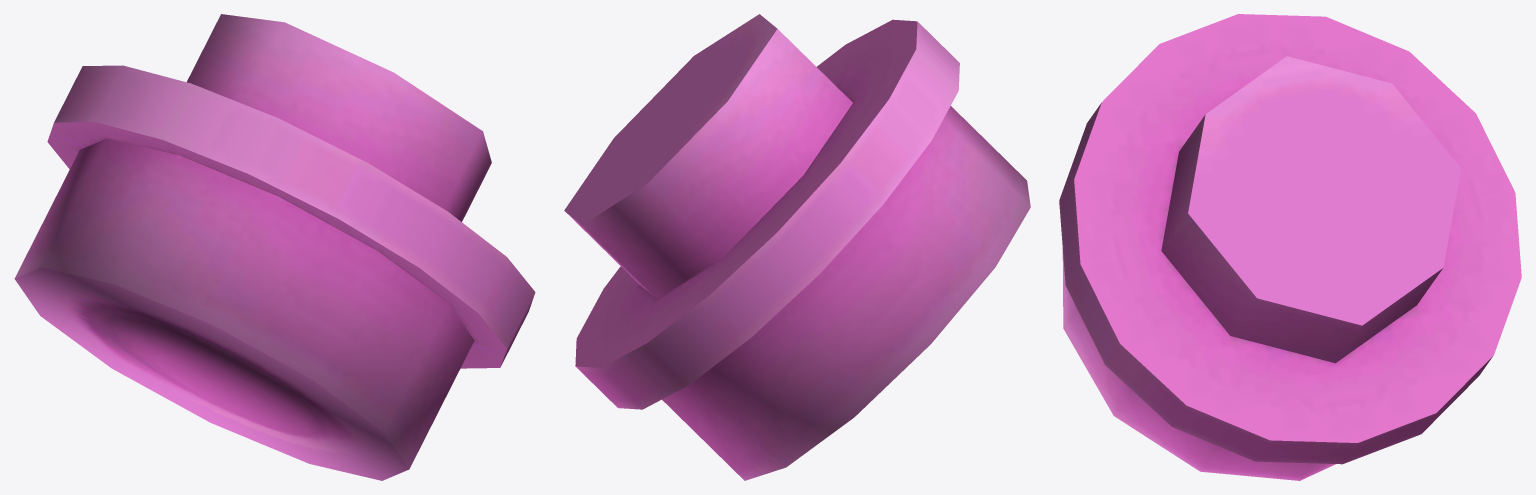
Rendered from LoadingPanel.fbx.
3 renders of one model, left to right at view 1: azimuth 30°, elevation 25°; view 2: azimuth 150°, elevation 25°; view 3: azimuth 270°, elevation 25°, orthographic. The views are drawn at different scales.
Parts seen in each view (by area): view 1: Stud; view 2: Stud; view 3: Stud.
Boxes of the visible parts, box(x1,y1,x2,y2) form: Stud: box(14, 14, 535, 480); Stud: box(564, 14, 1030, 480); Stud: box(1059, 14, 1521, 480).
Bounding box in the file's own units: 0.8112 × 0.8164 × 0.8331.
